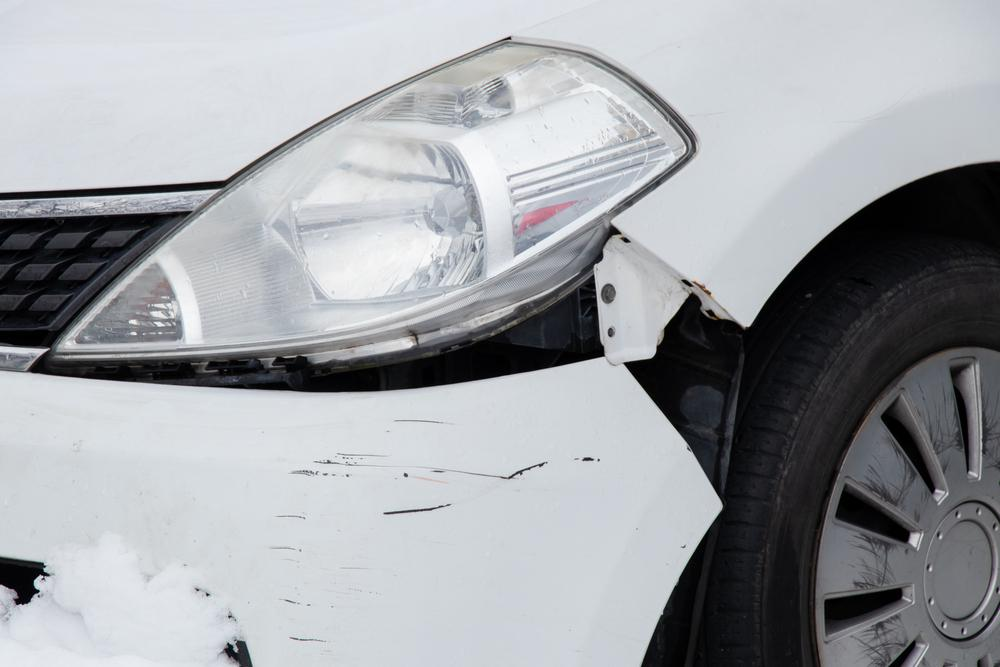scratch: (265, 408, 607, 658)
